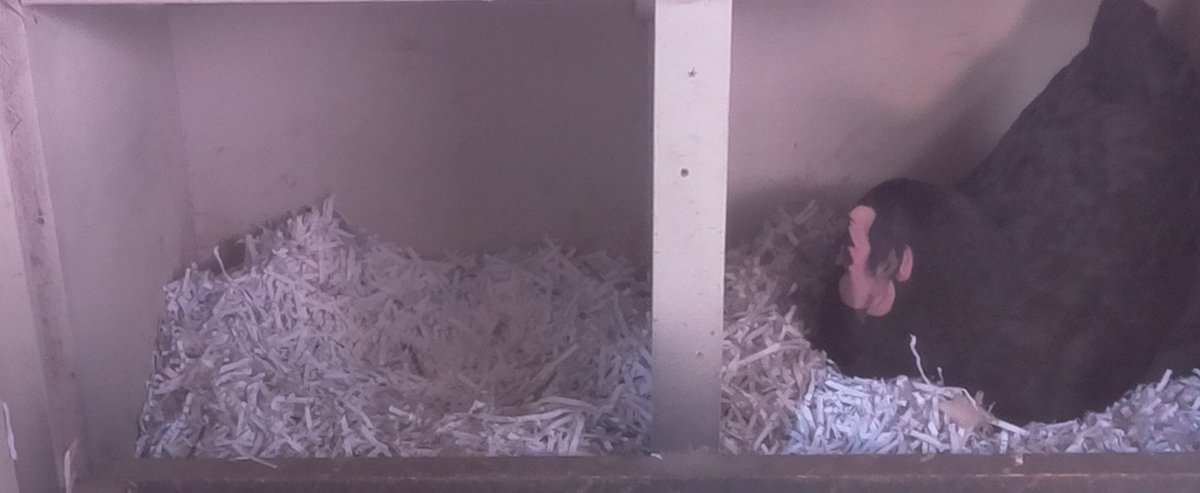hen: (817, 7, 1195, 437)
